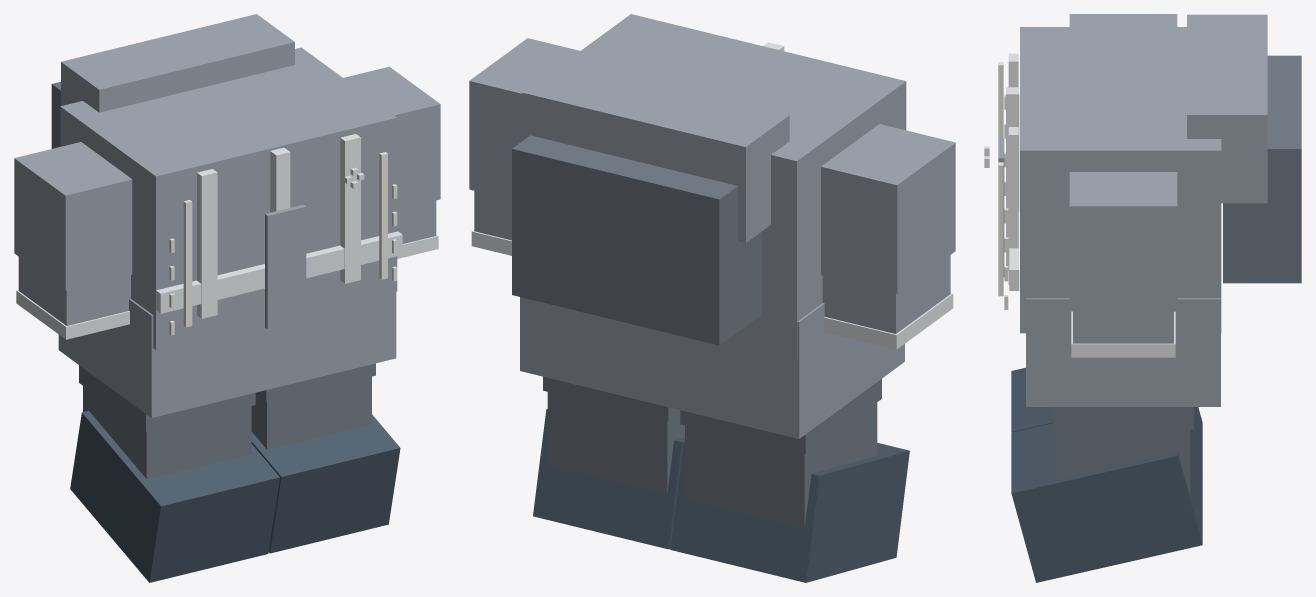
Rendered from raincoat-slate.glb.
3 views of the same model, side by side, from view 1: azimuth 30°, elevation 25°; view 2: azimuth 150°, elevation 25°; view 3: azimuth 270°, elevation 25° (orthographic). The views are drawn at different scales.
Visible parts, largest first — view 1: jacket, coat-tails, shoe-Right, upper-sleeve-Right, rain-hood, shoe-Left, lower-trouser-Right, upper-sleeve-Left, lower-trouser-Left, design-raincoat-storm-flap, lower-sleeve-Right, reflective-band (+11 smaller); view 2: backpack, jacket, coat-tails, rain-hood, upper-sleeve-Right, shoe-Right, lower-trouser-Right, lower-trouser-Left, shoe-Left, upper-sleeve-Left, lower-sleeve-Right, trouser-Right (+4 smaller); view 3: jacket, shoe-Left, coat-tails, upper-sleeve-Left, rain-hood, backpack, lower-trouser-Left, lower-sleeve-Left, trouser-Left, shoe-Right, cuff-Left, upper-sleeve-Right (+5 smaller).
Boxes of the visible parts, x1,y1,x2,y2 form: jacket: (60,47,397,350); coat-tails: (58,292,396,417); shoe-Right: (70,410,279,582); upper-sleeve-Right: (14,142,132,290); rain-hood: (61,14,294,112); shoe-Left: (251,414,400,553); lower-trouser-Right: (83,386,251,478); upper-sleeve-Left: (343,66,440,209); lower-trouser-Left: (251,376,371,449); design-raincoat-storm-flap: (265,204,306,329); lower-sleeve-Right: (18,257,130,325); reflective-band: (156,231,402,313); backpack: (512,135,761,345); jacket: (521,14,906,359); coat-tails: (520,297,904,438); rain-hood: (522,60,789,242); upper-sleeve-Right: (821,124,955,293); shoe-Right: (670,442,909,582); lower-trouser-Right: (685,402,877,527); lower-trouser-Left: (547,392,684,494); shoe-Left: (533,409,684,549); upper-sleeve-Left: (469,38,579,199); lower-sleeve-Right: (822,255,950,333); trouser-Right: (680,379,881,454); jacket: (1020,27,1221,333); shoe-Left: (1011,423,1202,582); coat-tails: (1026,298,1220,406); upper-sleeve-Left: (1069,172,1177,305); rain-hood: (1187,14,1267,203); backpack: (1223,55,1301,283); lower-trouser-Left: (1056,429,1190,495); lower-sleeve-Left: (1073,306,1173,343); trouser-Left: (1053,407,1193,429); shoe-Right: (1011,367,1202,483); cuff-Left: (1071,311,1175,357); upper-sleeve-Right: (1069,14,1177,26).
Size of the model in its own units: 1.07 by 1.19 by 0.748.
